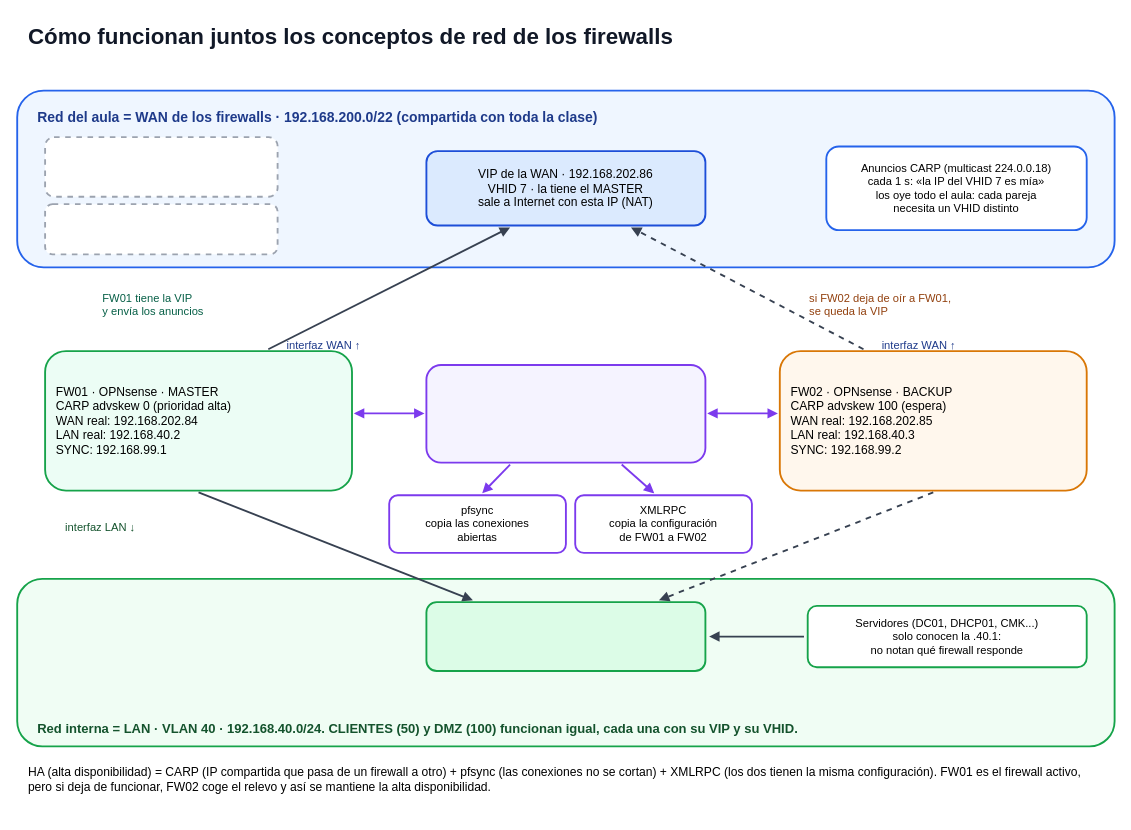
Some shapes in this 1131 by 830 pixel diagram are drawn without their labels. Here are the shapes that lost their labels. From the top down, the centre of each, then its label:
At (161,166): "Otro equipo del aula VHID 8 · 192.168.202.38".
At (161,229): "Otro equipo del aula VHID 34 · 192.168.202.35".
At (565,413): "VLAN 99 · SYNC enlace privado entre los dos firewalls (la regla SYNC lo permite)".
At (565,636): "VIP de la LAN · 192.168.40.1 VHID 40 · puerta de enlace de todos los servidores".
